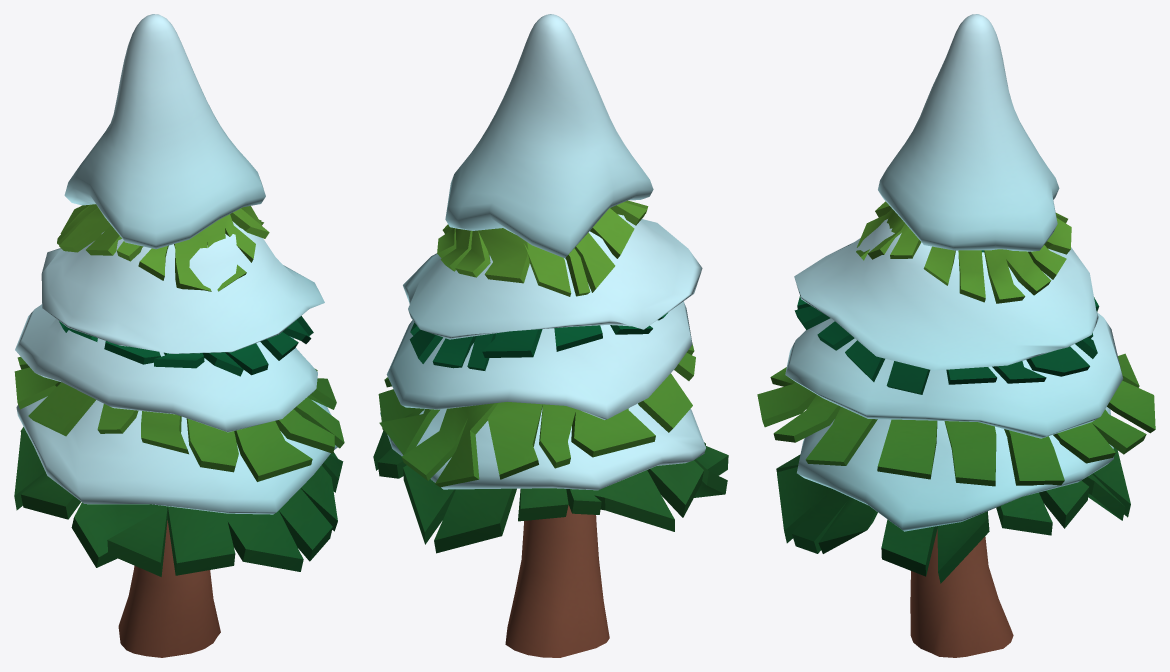
The model's file is ArbolNieve2_V3.fbx.
The picture shows the model from 3 angles, left to right: view 1: azimuth 30°, elevation 25°; view 2: azimuth 150°, elevation 25°; view 3: azimuth 270°, elevation 25°; orthographic projection.
Visible parts, largest first — view 1: Snow, Arbol; view 2: Snow, Arbol; view 3: Snow, Arbol.
Boxes of the visible parts, x1,y1,x2,y2 form: Snow: [15, 14, 337, 514]; Arbol: [14, 204, 344, 657]; Snow: [380, 14, 705, 490]; Arbol: [373, 200, 728, 657]; Snow: [785, 14, 1123, 531]; Arbol: [757, 201, 1155, 657].
Bounding box in the file's own units: 4.09 × 8.04 × 4.7.
